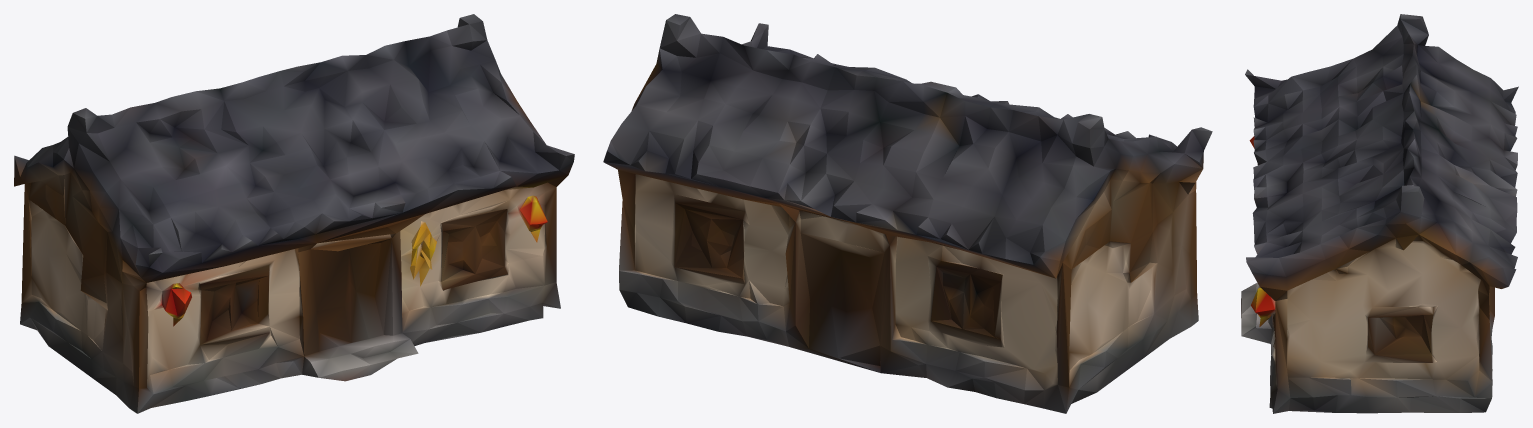
File: bq_farmhouse.vc2.glb
3 views of the same model, side by side, from view 1: azimuth 30°, elevation 25°; view 2: azimuth 150°, elevation 25°; view 3: azimuth 270°, elevation 25° (orthographic). The views are drawn at different scales.
Parts seen in each view (by area): view 1: bq_farmhouse; view 2: bq_farmhouse; view 3: bq_farmhouse.
Boxes of the visible parts, x1=… form: bq_farmhouse: x1=14, y1=14, x2=574, y2=413; bq_farmhouse: x1=603, y1=14, x2=1212, y2=413; bq_farmhouse: x1=1241, y1=14, x2=1518, y2=413.
Size of the model in its own units: 1.9 by 1.02 by 1.15.
